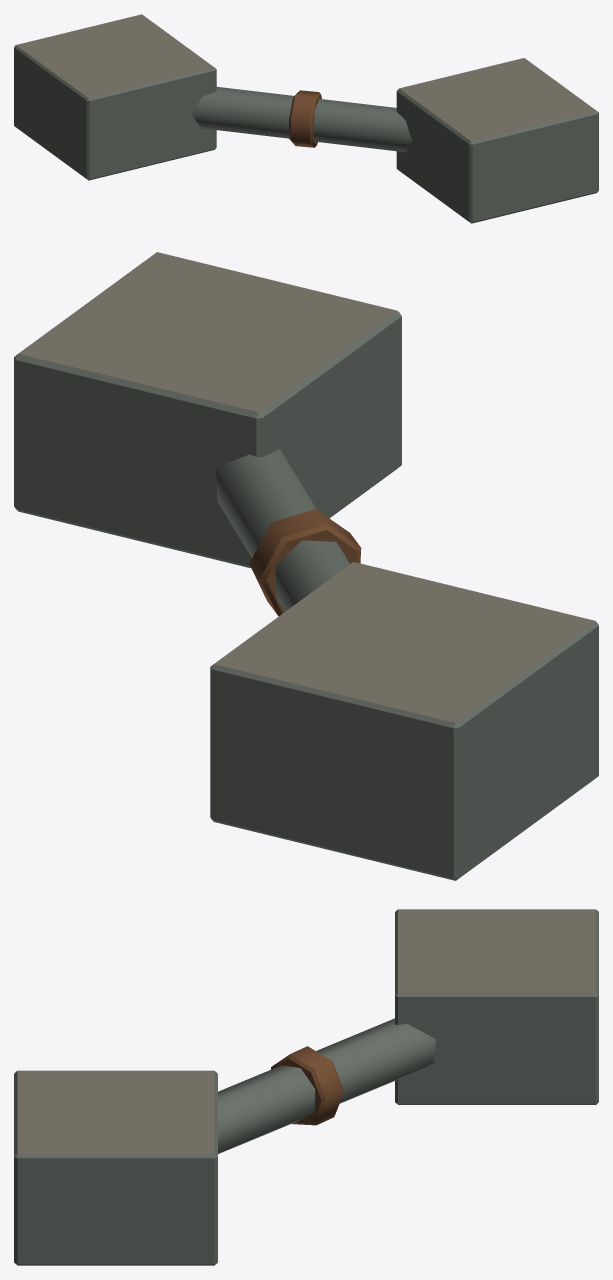
The model's file is R4C_ROD_DIAG_2D_SHORT_LOD1.fbx.
The picture shows the model from 3 angles, top to bottom: view 1: azimuth 30°, elevation 25°; view 2: azimuth 150°, elevation 25°; view 3: azimuth 270°, elevation 25°; orthographic projection. The views are drawn at different scales.
Visible parts, largest first — view 1: R4C_ROD_DIAG_2D_SHORT_LOD1; view 2: R4C_ROD_DIAG_2D_SHORT_LOD1; view 3: R4C_ROD_DIAG_2D_SHORT_LOD1.
Boxes of the visible parts, x1,y1,x2,y2 form: R4C_ROD_DIAG_2D_SHORT_LOD1: [14, 14, 598, 223]; R4C_ROD_DIAG_2D_SHORT_LOD1: [14, 252, 598, 880]; R4C_ROD_DIAG_2D_SHORT_LOD1: [14, 909, 598, 1265].
Size of the model in its own units: 1.07 by 0.226 by 1.07.
